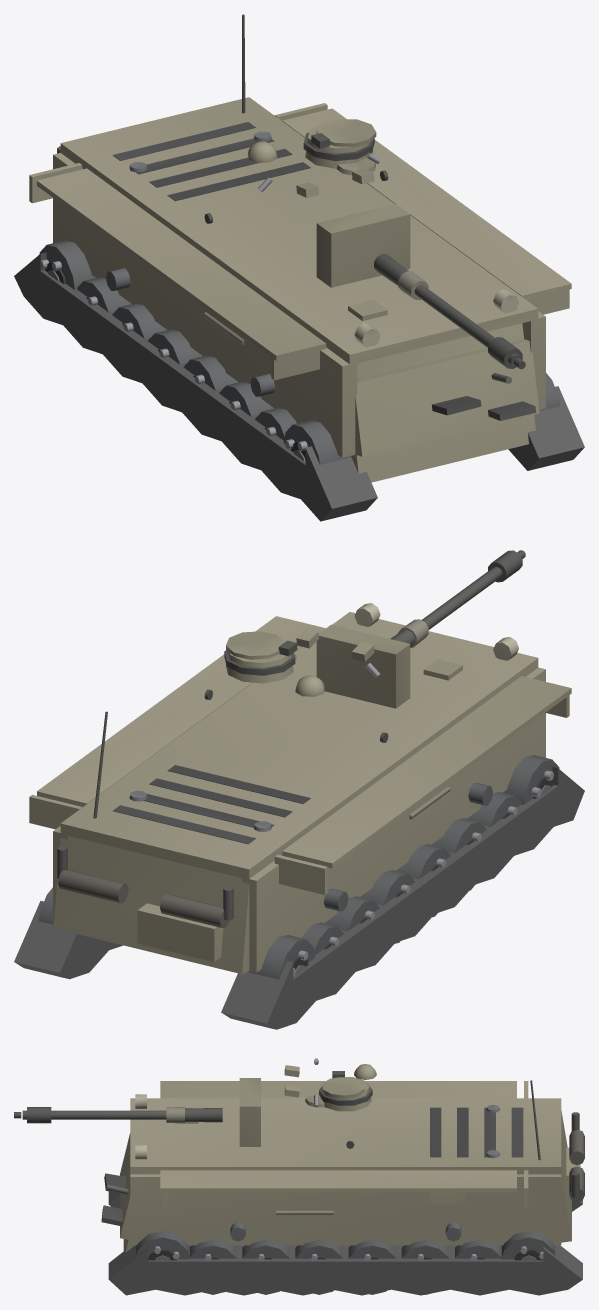
The model's file is chinu.glb.
3 views of the same model, one above another, from view 1: azimuth 30°, elevation 25°; view 2: azimuth 150°, elevation 25°; view 3: azimuth 270°, elevation 25° (orthographic). The views are drawn at different scales.
Visible parts, largest first — view 1: hullTop, hullSide, tracks, lowerPlate, glacis, mantlet, turretRoof, barrel, wheel7, wheel6, wheel3, wheel2 (+4 smaller); view 2: hullTop, hullSide, tracks, hullRear, mantlet, turretRoof, barrel, wheel6, wheel7, wheel3, wheel2, wheel4 (+3 smaller); view 3: hullSide, hullTop, tracks, barrel, hullRear, turretRoof, mantlet, wheel15, wheel14, glacis, wheel12, wheel13 (+5 smaller).
Boxes of the visible parts, left/top/right/bottom form: hullTop: left=60, top=97, right=538, bottom=364; hullSide: left=29, top=103, right=571, bottom=457; tracks: left=14, top=252, right=584, bottom=521; lowerPlate: left=355, top=339, right=539, bottom=456; glacis: left=348, top=299, right=536, bottom=482; mantlet: left=316, top=204, right=410, bottom=287; turretRoof: left=247, top=119, right=380, bottom=197; barrel: left=374, top=254, right=525, bottom=369; wheel7: left=39, top=240, right=95, bottom=289; wheel6: left=284, top=420, right=351, bottom=464; wheel3: left=183, top=355, right=238, bottom=390; wheel2: left=148, top=329, right=202, bottom=364; hullTop: left=60, top=612, right=538, bottom=879; hullSide: left=29, top=603, right=571, bottom=972; tracks: left=14, top=767, right=584, bottom=1029; hullRear: left=53, top=711, right=250, bottom=974; mantlet: left=316, top=624, right=410, bottom=708; turretRoof: left=224, top=628, right=380, bottom=696; barrel: left=390, top=550, right=525, bottom=647; wheel6: left=503, top=755, right=559, bottom=804; wheel7: left=248, top=935, right=315, bottom=979; wheel3: left=396, top=844, right=450, bottom=917; wheel2: left=360, top=870, right=415, bottom=943; wheel4: left=431, top=818, right=486, bottom=890; hullSide: left=130, top=1081, right=561, bottom=1245; hullTop: left=130, top=1098, right=561, bottom=1174; tracks: left=108, top=1191, right=582, bottom=1295; barrel: left=14, top=1107, right=222, bottom=1123; hullRear: left=530, top=1080, right=584, bottom=1242; turretRoof: left=284, top=1058, right=376, bottom=1111; mantlet: left=239, top=1078, right=260, bottom=1146; wheel15: left=501, top=1230, right=555, bottom=1260; wheel14: left=136, top=1230, right=190, bottom=1260; glacis: left=101, top=1122, right=198, bottom=1252; wheel12: left=242, top=1240, right=289, bottom=1294; wheel13: left=190, top=1240, right=236, bottom=1294.
Size of the model in its own units: 3.54 by 3.02 by 7.95.
